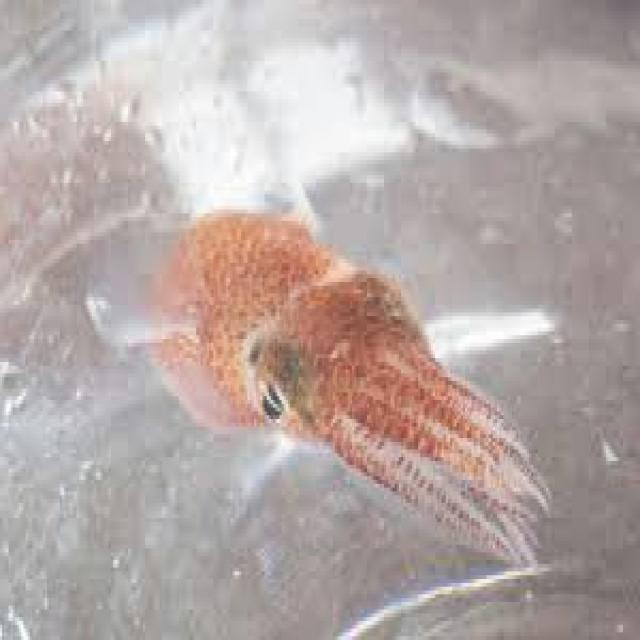squid: (90, 213, 548, 552)
